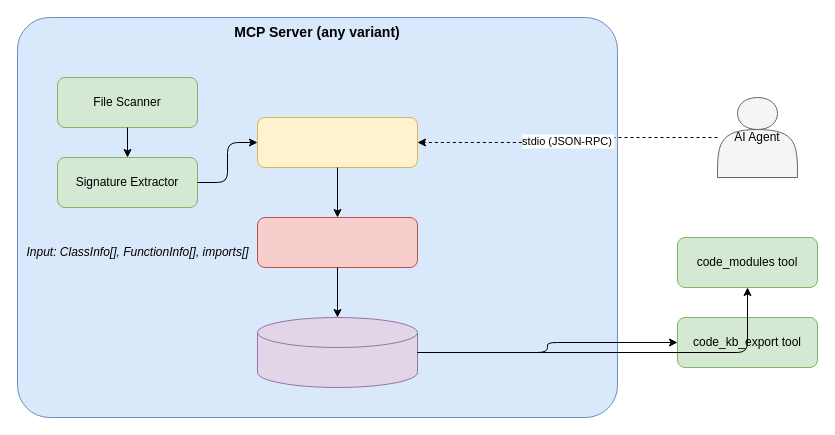
The diagram is 835 pixels wide and 435 high, and some of its shapes have lost their labels. The centre of each missing label's shape, as x and y in pixels:
IndexingEngine: point (337, 142)
Pattern Detector (NEW — KSA-26): point (337, 242)
SQLite DB (modules table): point (337, 352)
